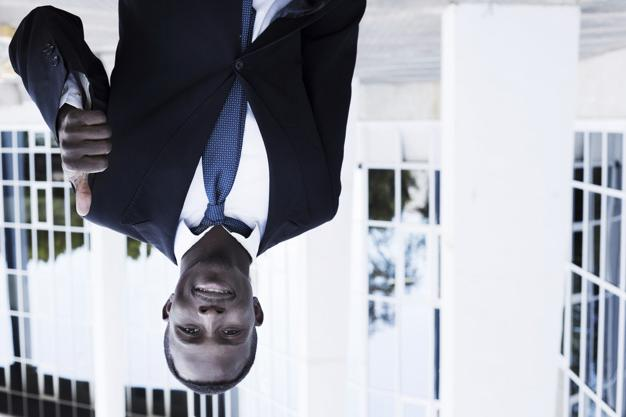thumbsdown: (60, 110, 112, 216)
